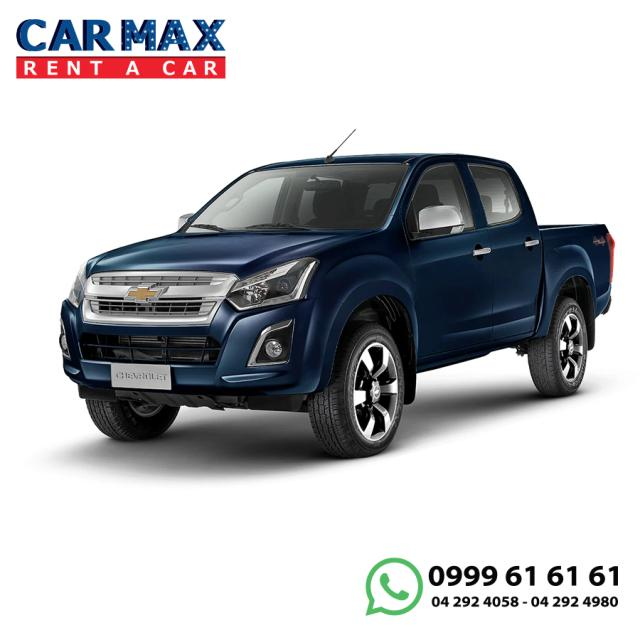CMT: (56, 152, 618, 457)
